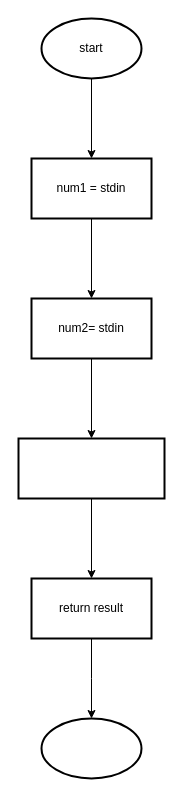
This 182x796 diagram has some shape labels left out. Here are the shapes that lost their labels. From the top down, the box of each, then its label:
(17, 437, 165, 499): result = num1 + num2
(40, 717, 142, 779): end
